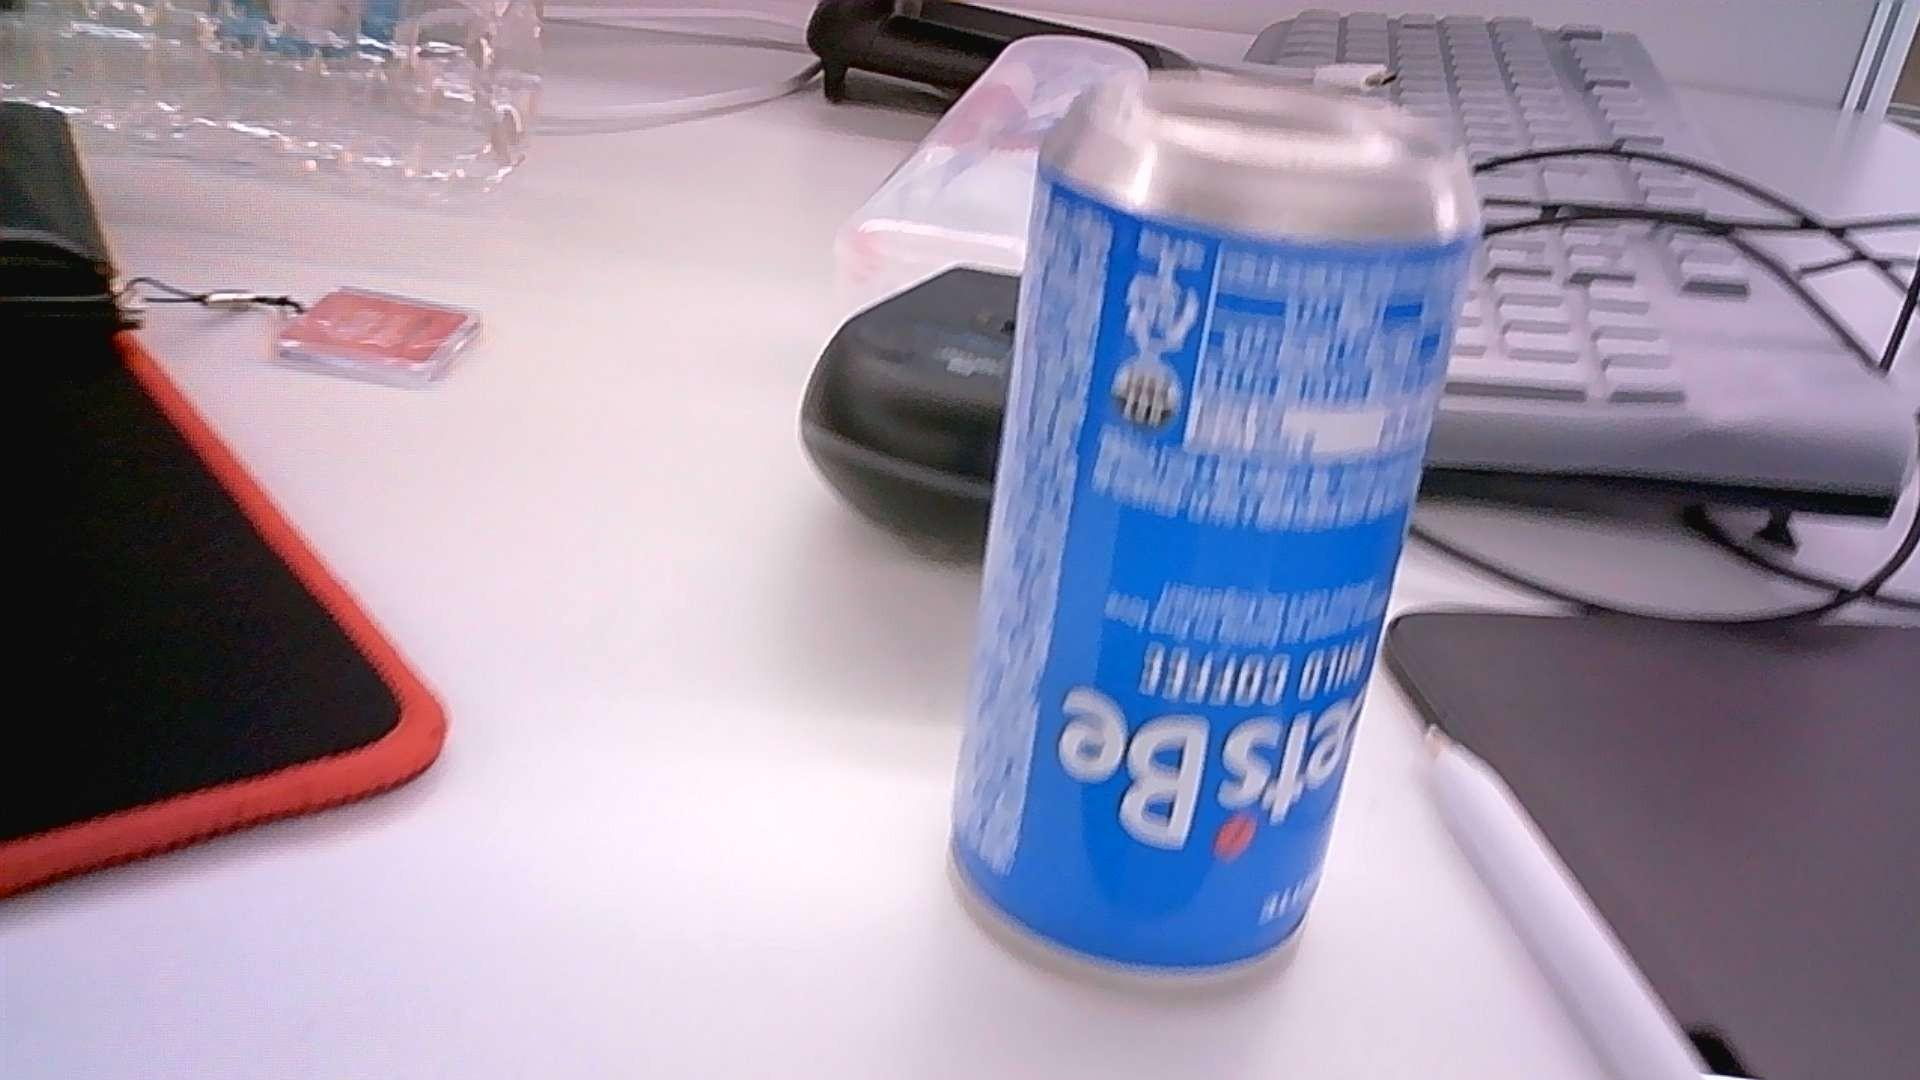letsbe: (947, 71, 1486, 992)
